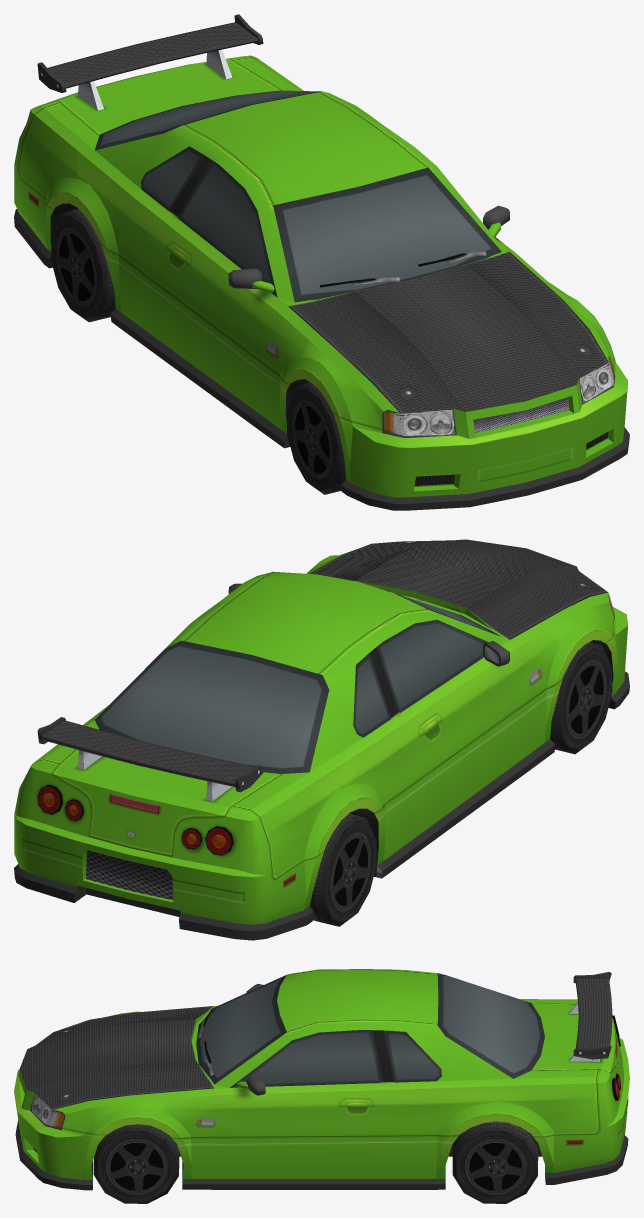
Rendered from StreetHighEndVehicle.fbx.
The picture shows the model from 3 angles, top to bottom: view 1: azimuth 30°, elevation 25°; view 2: azimuth 150°, elevation 25°; view 3: azimuth 270°, elevation 25°; orthographic projection. The views are drawn at different scales.
Parts seen in each view (by area): view 1: Chassis, RR_WHeel, RF_Wheel; view 2: Chassis, RR_WHeel, RF_Wheel; view 3: Chassis, LR_Wheel, LF_Wheel.
Boxes of the visible parts, <box> form: Chassis: <box>14,14,629,510</box>; RR_WHeel: <box>51,208,115,322</box>; RF_Wheel: <box>287,382,345,494</box>; Chassis: <box>14,539,629,940</box>; RR_WHeel: <box>309,813,376,926</box>; RF_Wheel: <box>550,642,612,754</box>; Chassis: <box>14,969,629,1190</box>; LR_Wheel: <box>452,1121,538,1203</box>; LF_Wheel: <box>93,1124,179,1203</box>.
Bounding box in the file's own units: 2.1 × 1.53 × 5.27.
Materials: 2 (2 with a texture image).
